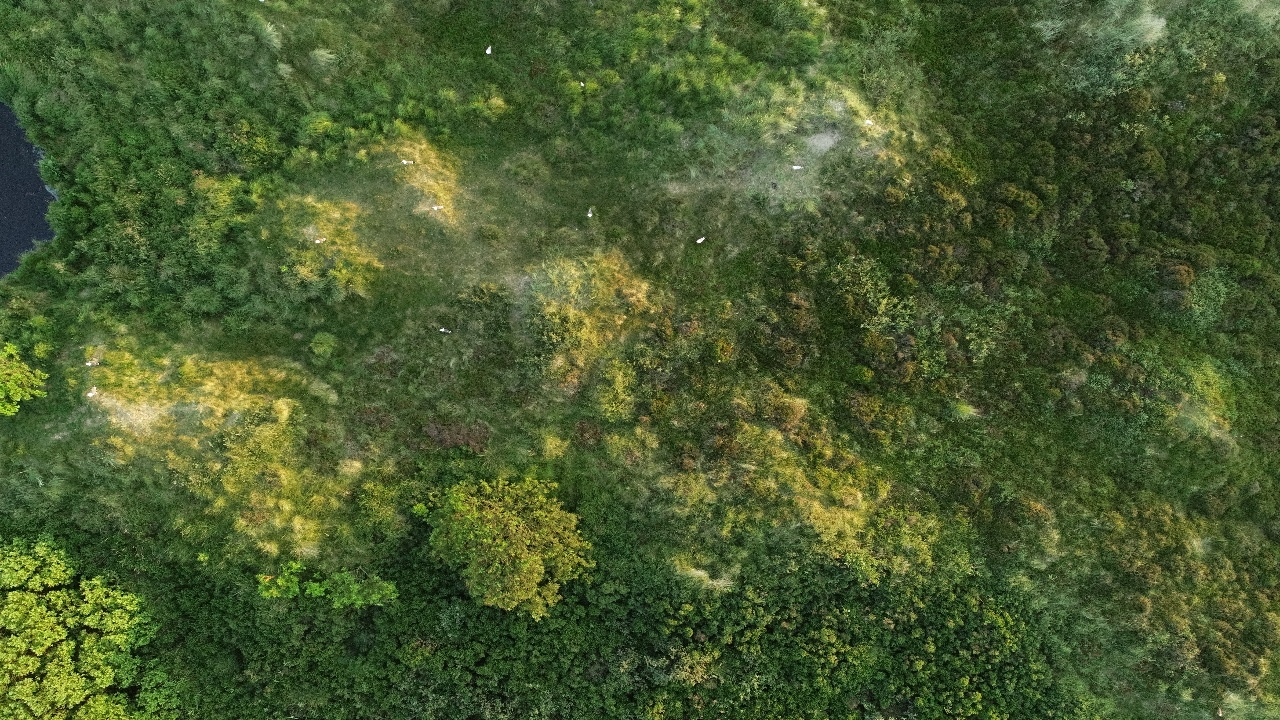Bird: (76, 346, 111, 378), (75, 376, 110, 408), (425, 311, 460, 343), (305, 224, 340, 256), (420, 190, 455, 222), (395, 146, 430, 178), (572, 197, 607, 229), (687, 221, 722, 253), (781, 153, 816, 185), (565, 69, 600, 101), (469, 32, 504, 64)
